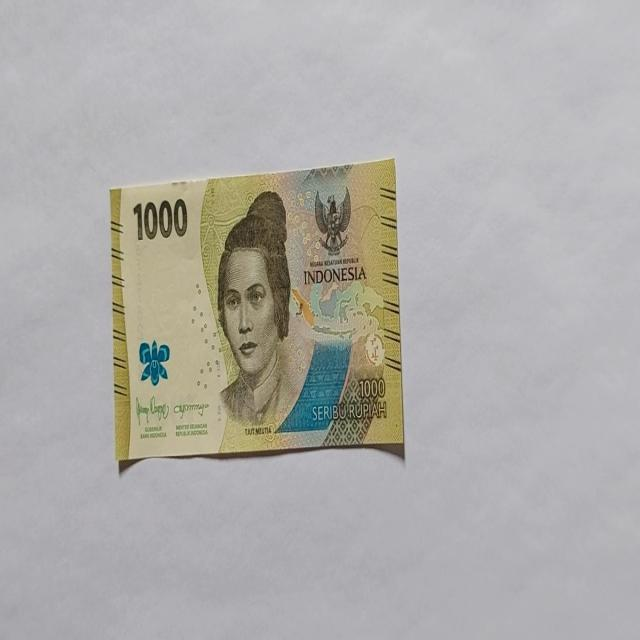seribu rupiah kertas: (110, 157, 404, 465)
